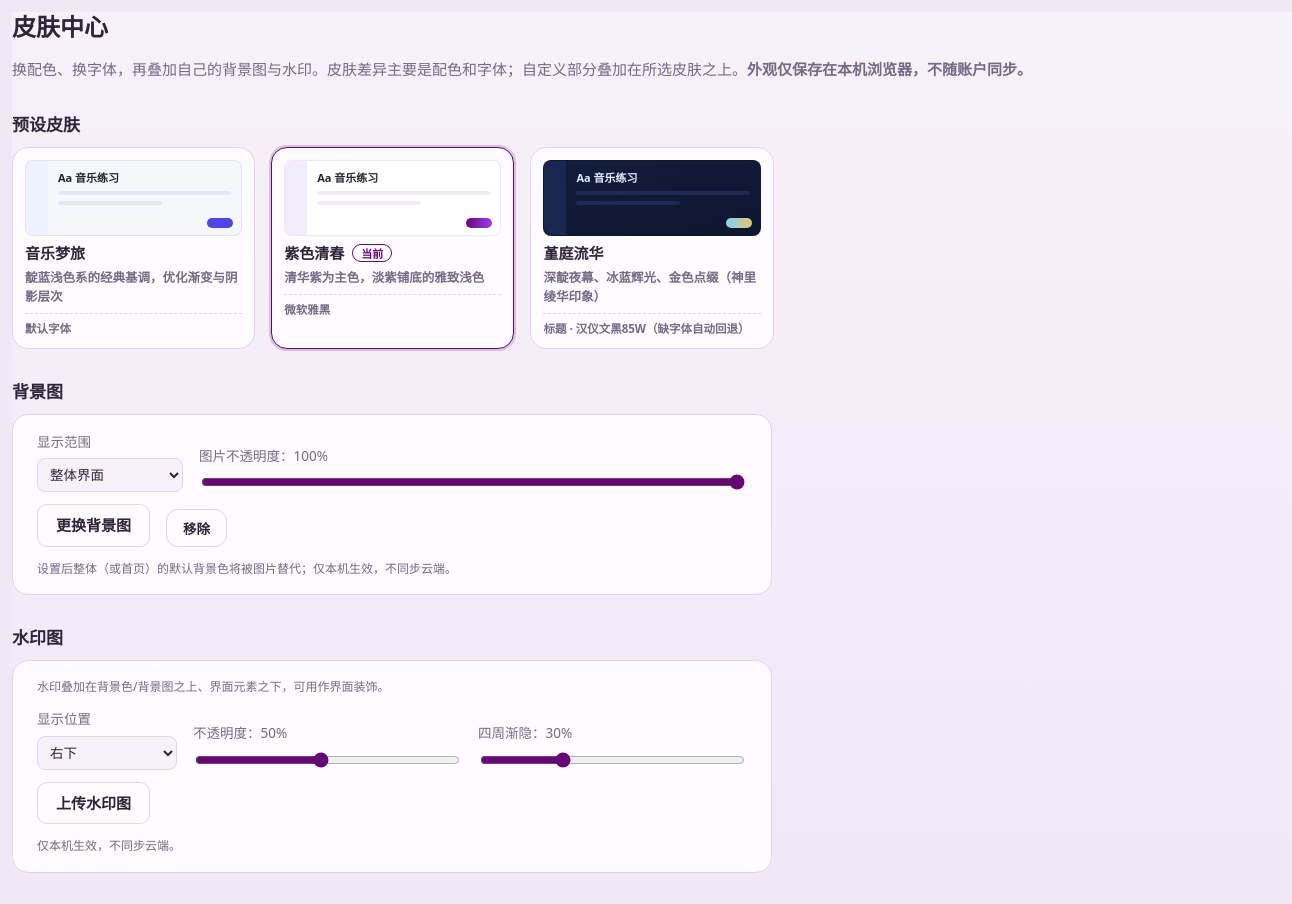
it: SkinCenterPage › 背景引用失效时宽松降级：无缩略图，但保留更换/移除操作
This screenshot has width=1292, height=904.
Expected: the file field with class "skin-upload" reads "更换背景图", [56,515,131,535]
Click the button "移除" at (196, 528), box [166,509,227,547]
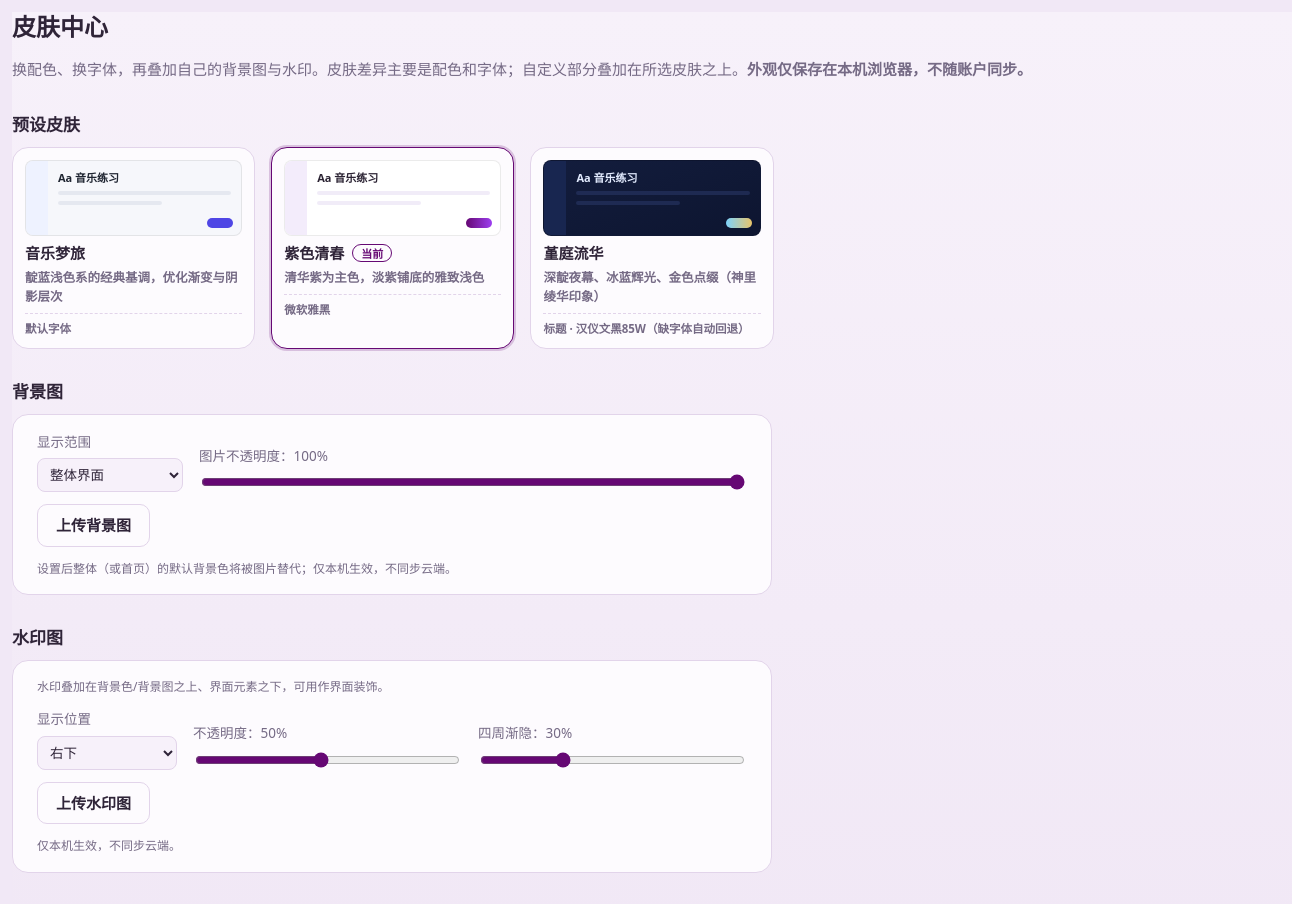
Now the file field with class "skin-upload" reads "上传背景图", box [56,515,131,535]
